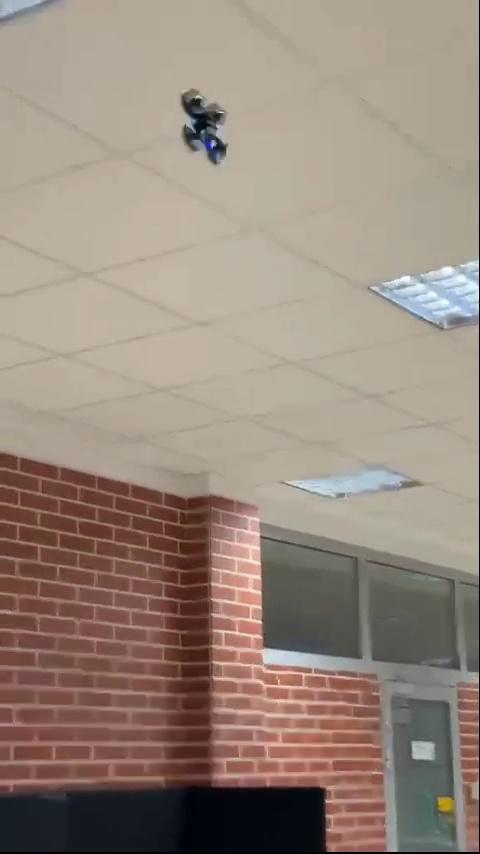drone: (162, 88, 240, 169)
